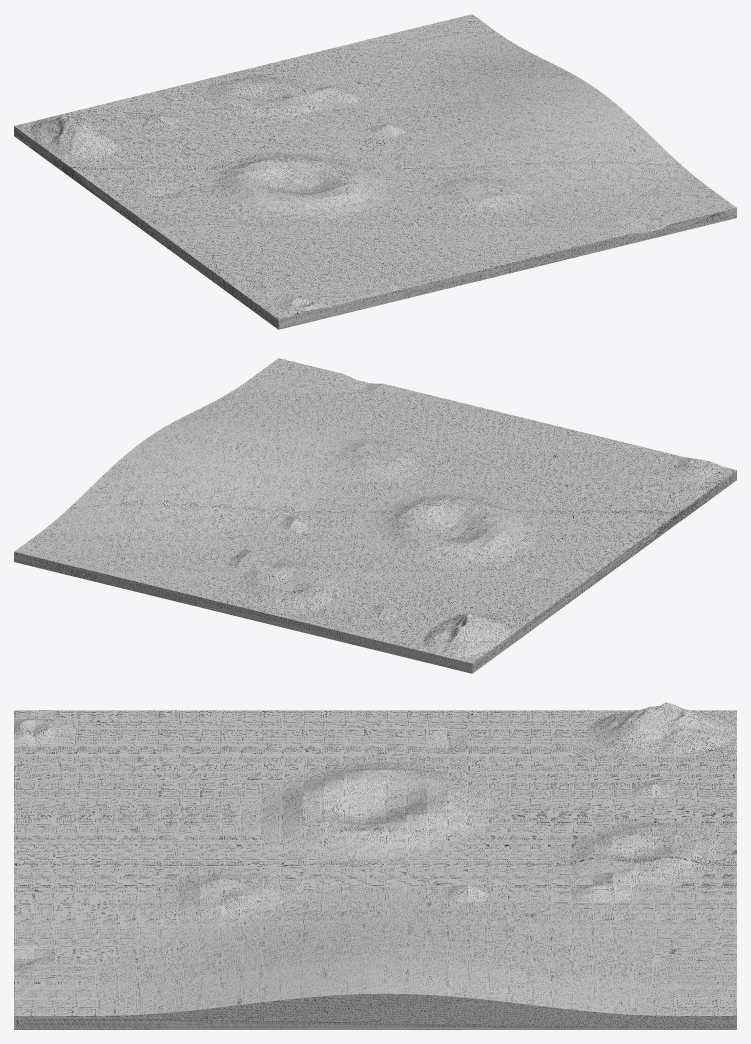
Rendered from lunar_landscape.dae.
3 views of the same model, one above another, from view 1: azimuth 30°, elevation 25°; view 2: azimuth 150°, elevation 25°; view 3: azimuth 270°, elevation 25° (orthographic). The views are drawn at different scales.
Parts seen in each view (by area): view 1: landscape (×2); view 2: landscape (×2); view 3: landscape (×2).
Part boxes in pixels (x1,y1,x2,y2): landscape (×2): [14, 14, 736, 329]; landscape (×2): [14, 358, 736, 673]; landscape (×2): [14, 702, 736, 1029].
Size of the model in its own units: 6000 by 6000 by 382.
